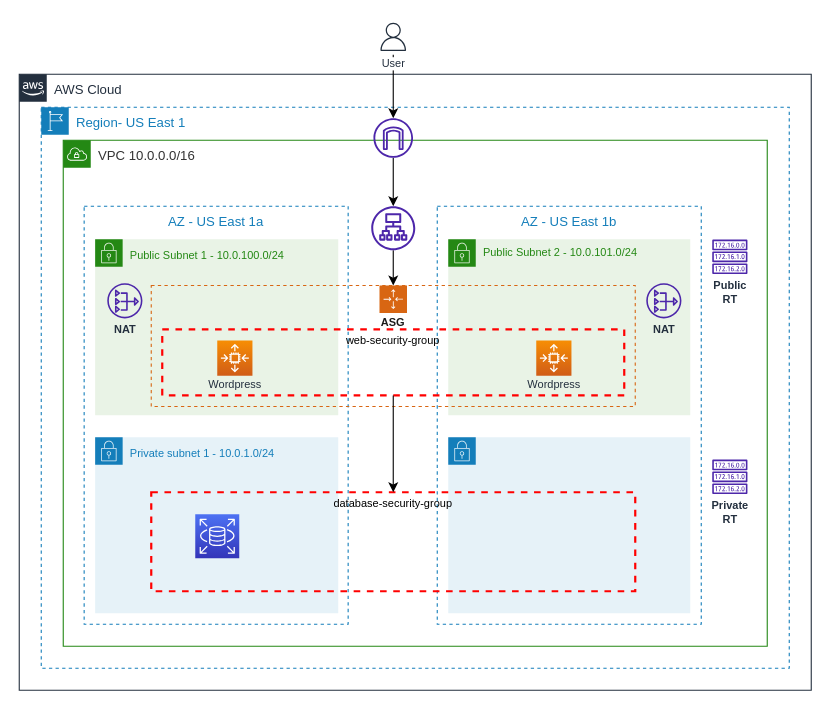
The diagram is 831 pixels wide and 710 high, and some of its shapes have lost their labels. The shapes that lost their labels are listed below. From the top down, each one's centre as x and y in pixels, then its label:
At pixel 393 137: "Internet Gateway".
At pixel 393 228: "ALB".
At pixel 216 535: "RDS".
At pixel 568 524: "Private subnet 2 - 10.0.2.0/24".
